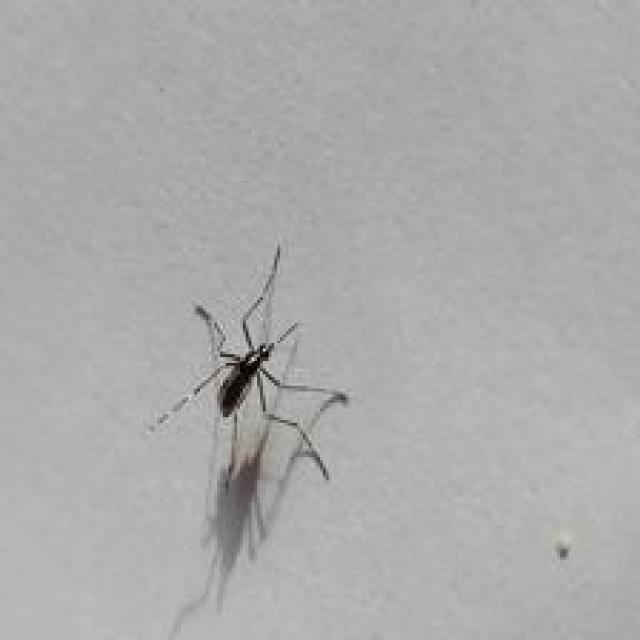Aedes albopictus: (146, 242, 351, 638)
